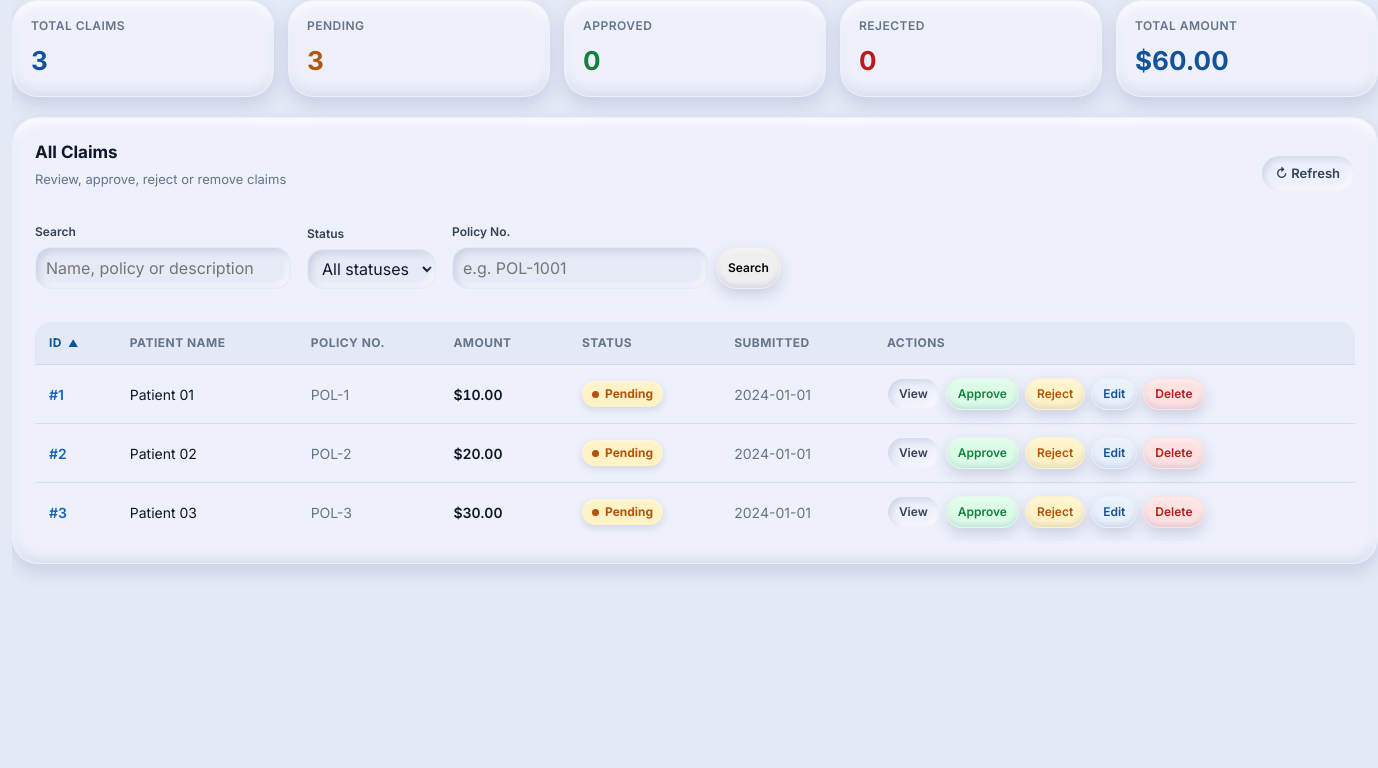
Test: ClaimList › filters by status via the status select (hits fetchClaimsByStatus)
The image size is (1378, 768).
Expected: the text "Patient 01" is shown, top-left (116, 364), bottom-right (297, 424)
Select "approved" in the dropdown labelled "Status". click: (372, 269)
box: top-left (307, 249), bottom-right (436, 289)
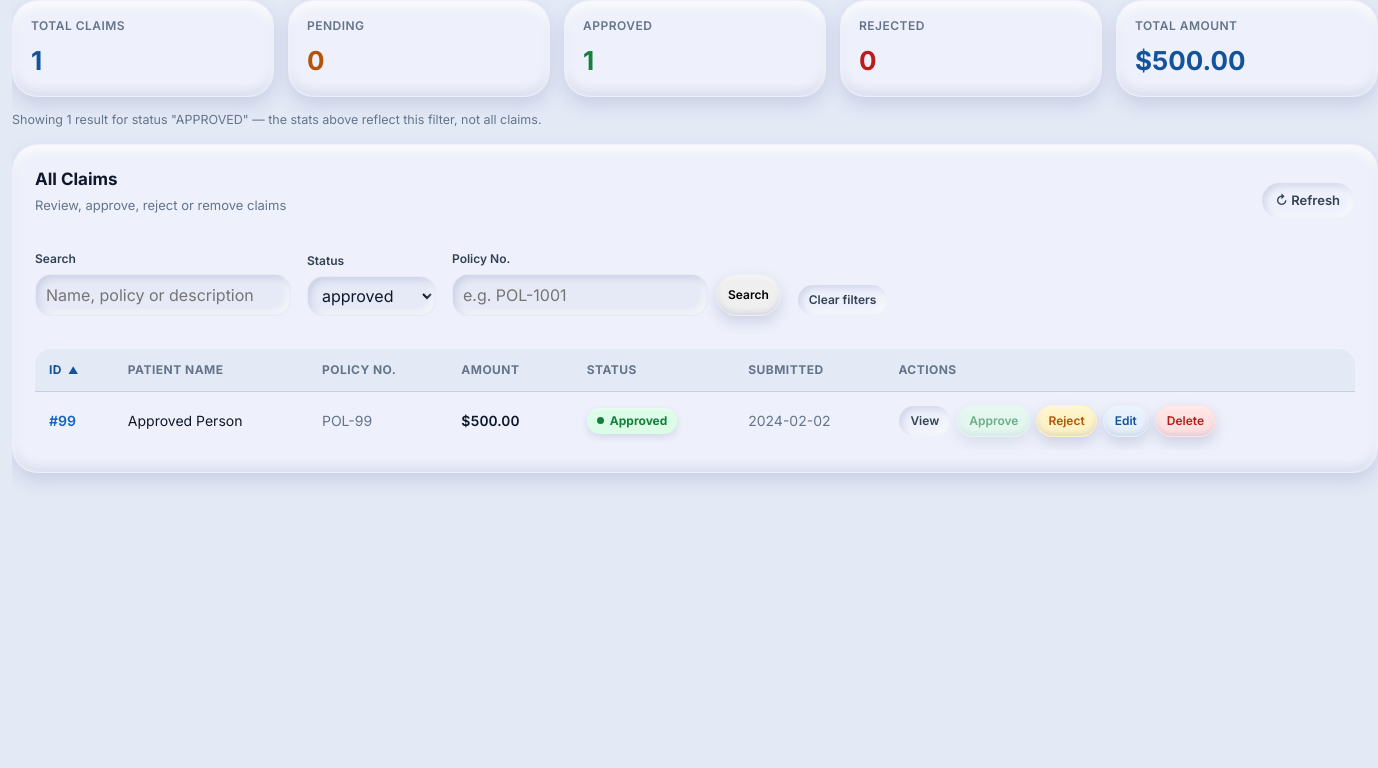
Now the text "Approved Person" is shown, box top-left (114, 391), bottom-right (308, 450)
